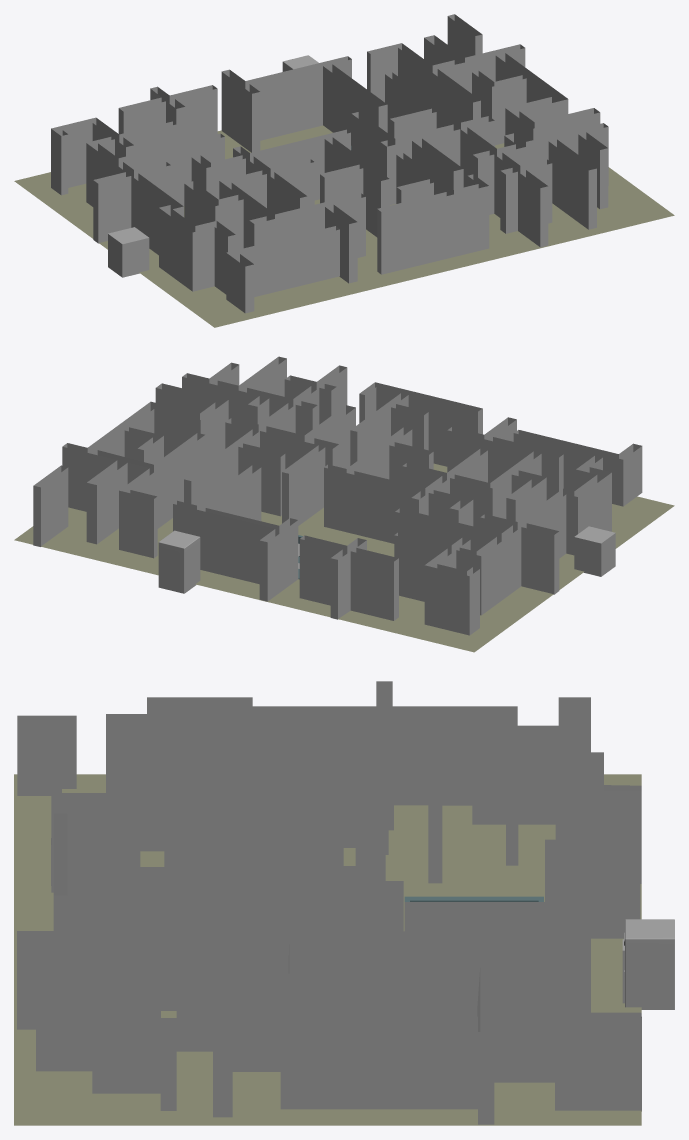
The model's file is Prueba 1 de backroom piso 1.fbx.
3 renders of one model, top to bottom at view 1: azimuth 30°, elevation 25°; view 2: azimuth 150°, elevation 25°; view 3: azimuth 270°, elevation 25°, orthographic. The views are drawn at different scales.
Visible parts, largest first — view 1: pPlane3, pPlane6, pPlane5, pPlane1, pPlane4, pPlane2, pPlane7, pPlane10, pPlane8, pCube12, pPlane9; view 2: pPlane6, pPlane5, pPlane3, pPlane4, pPlane1, pPlane2, pPlane8, pPlane7, pPlane10, pCube6, pPlane9, pCube12; view 3: pPlane3, pPlane4, pPlane1, pPlane5, pPlane6, pPlane2, pPlane7, pPlane9, pPlane8, pPlane10, pCube6, pCube5.
Boxes of the visible parts, x1=… form: pPlane3: x1=351, y1=72, x2=608, y2=247; pPlane6: x1=51, y1=117, x2=235, y2=294; pPlane5: x1=184, y1=129, x2=389, y2=283; pPlane1: x1=14, y1=125, x2=674, y2=327; pPlane4: x1=367, y1=35, x2=600, y2=145; pPlane2: x1=221, y1=56, x2=387, y2=152; pPlane7: x1=377, y1=153, x2=489, y2=274; pPlane10: x1=226, y1=226, x2=339, y2=313; pPlane8: x1=118, y1=85, x2=217, y2=143; pCube12: x1=108, y1=227, x2=149, y2=277; pPlane9: x1=447, y1=14, x2=482, y2=57; pPlane6: x1=394, y1=455, x2=611, y2=635; pPlane5: x1=324, y1=417, x2=563, y2=543; pPlane3: x1=182, y1=356, x2=355, y2=525; pPlane4: x1=62, y1=383, x2=228, y2=558; pPlane1: x1=14, y1=463, x2=674, y2=652; pPlane2: x1=173, y1=465, x2=298, y2=601; pPlane8: x1=299, y1=535, x2=398, y2=620; pPlane7: x1=350, y1=382, x2=482, y2=466; pPlane10: x1=513, y1=430, x2=642, y2=506; pCube6: x1=158, y1=530, x2=200, y2=593; pPlane9: x1=33, y1=465, x2=68, y2=546; pCube12: x1=574, y1=526, x2=615, y2=576; pPlane3: x1=17, y1=875, x2=503, y2=1110; pPlane4: x1=213, y1=938, x2=590, y2=1124; pPlane1: x1=14, y1=774, x2=641, y2=1125; pPlane5: x1=51, y1=730, x2=388, y2=894; pPlane6: x1=106, y1=681, x2=590, y2=883; pPlane2: x1=404, y1=839, x2=640, y2=1012; pPlane7: x1=53, y1=813, x2=226, y2=930; pPlane9: x1=555, y1=1012, x2=641, y2=1111; pPlane8: x1=555, y1=752, x2=641, y2=883; pPlane10: x1=17, y1=715, x2=76, y2=795; pCube6: x1=622, y1=919, x2=674, y2=1009; pCube5: x1=404, y1=896, x2=543, y2=901.
Size of the model in its own units: 64.14 by 10.8 by 49.22.
